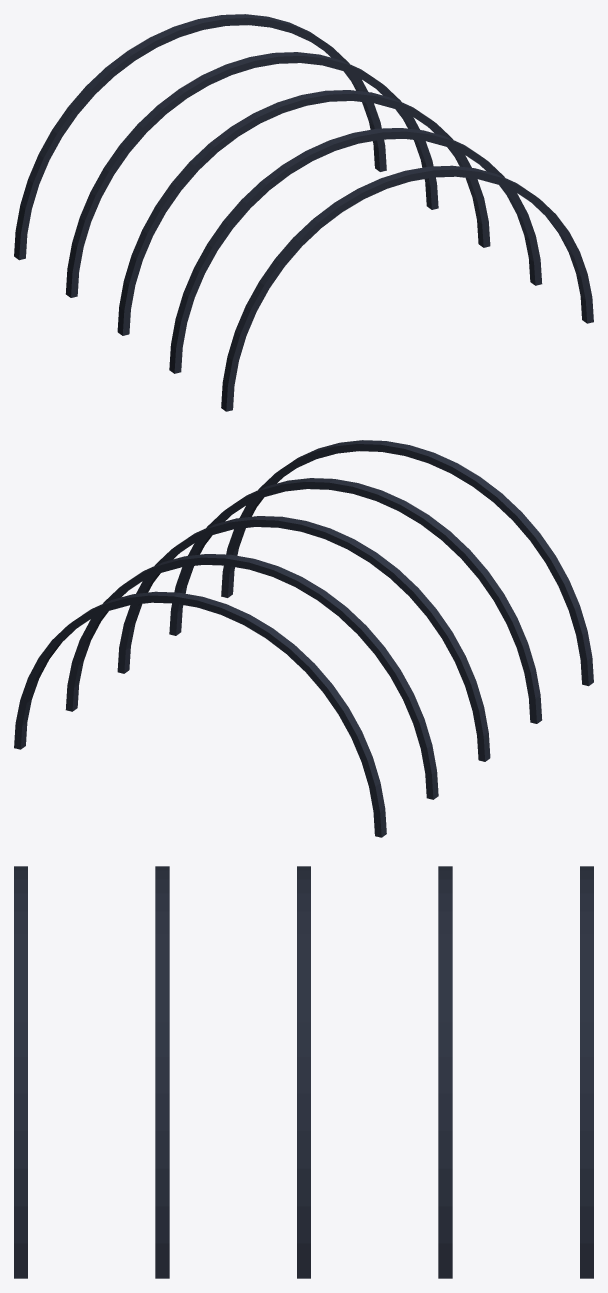
File: Ribs.fbx
The picture shows the model from 3 angles, top to bottom: view 1: azimuth 30°, elevation 25°; view 2: azimuth 150°, elevation 25°; view 3: azimuth 270°, elevation 25°; orthographic projection. The views are drawn at different scales.
Visible parts, largest first — view 1: Rib10.001; view 2: Rib10.001; view 3: Rib10.001.
Boxes of the visible parts, bbox=[...] form: Rib10.001: bbox=[14, 14, 593, 411]; Rib10.001: bbox=[14, 440, 593, 837]; Rib10.001: bbox=[14, 866, 593, 1278].
Size of the model in its own units: 16400 by 8200 by 16400.
